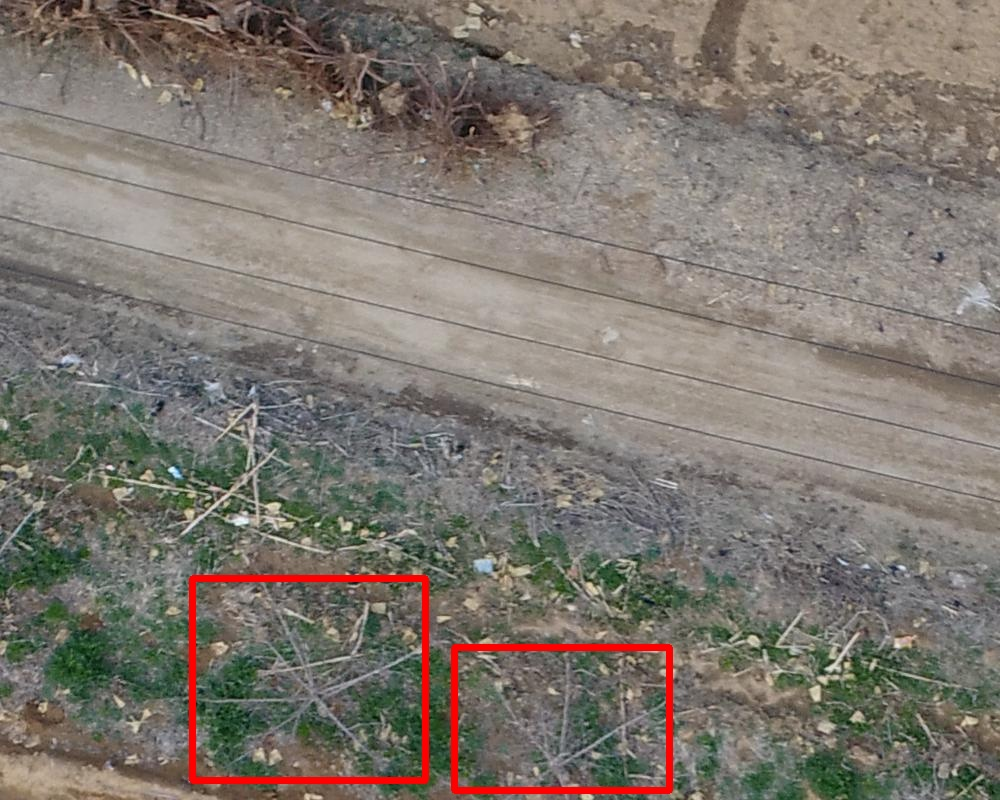apple: (192, 578, 425, 780), (454, 647, 669, 790)
